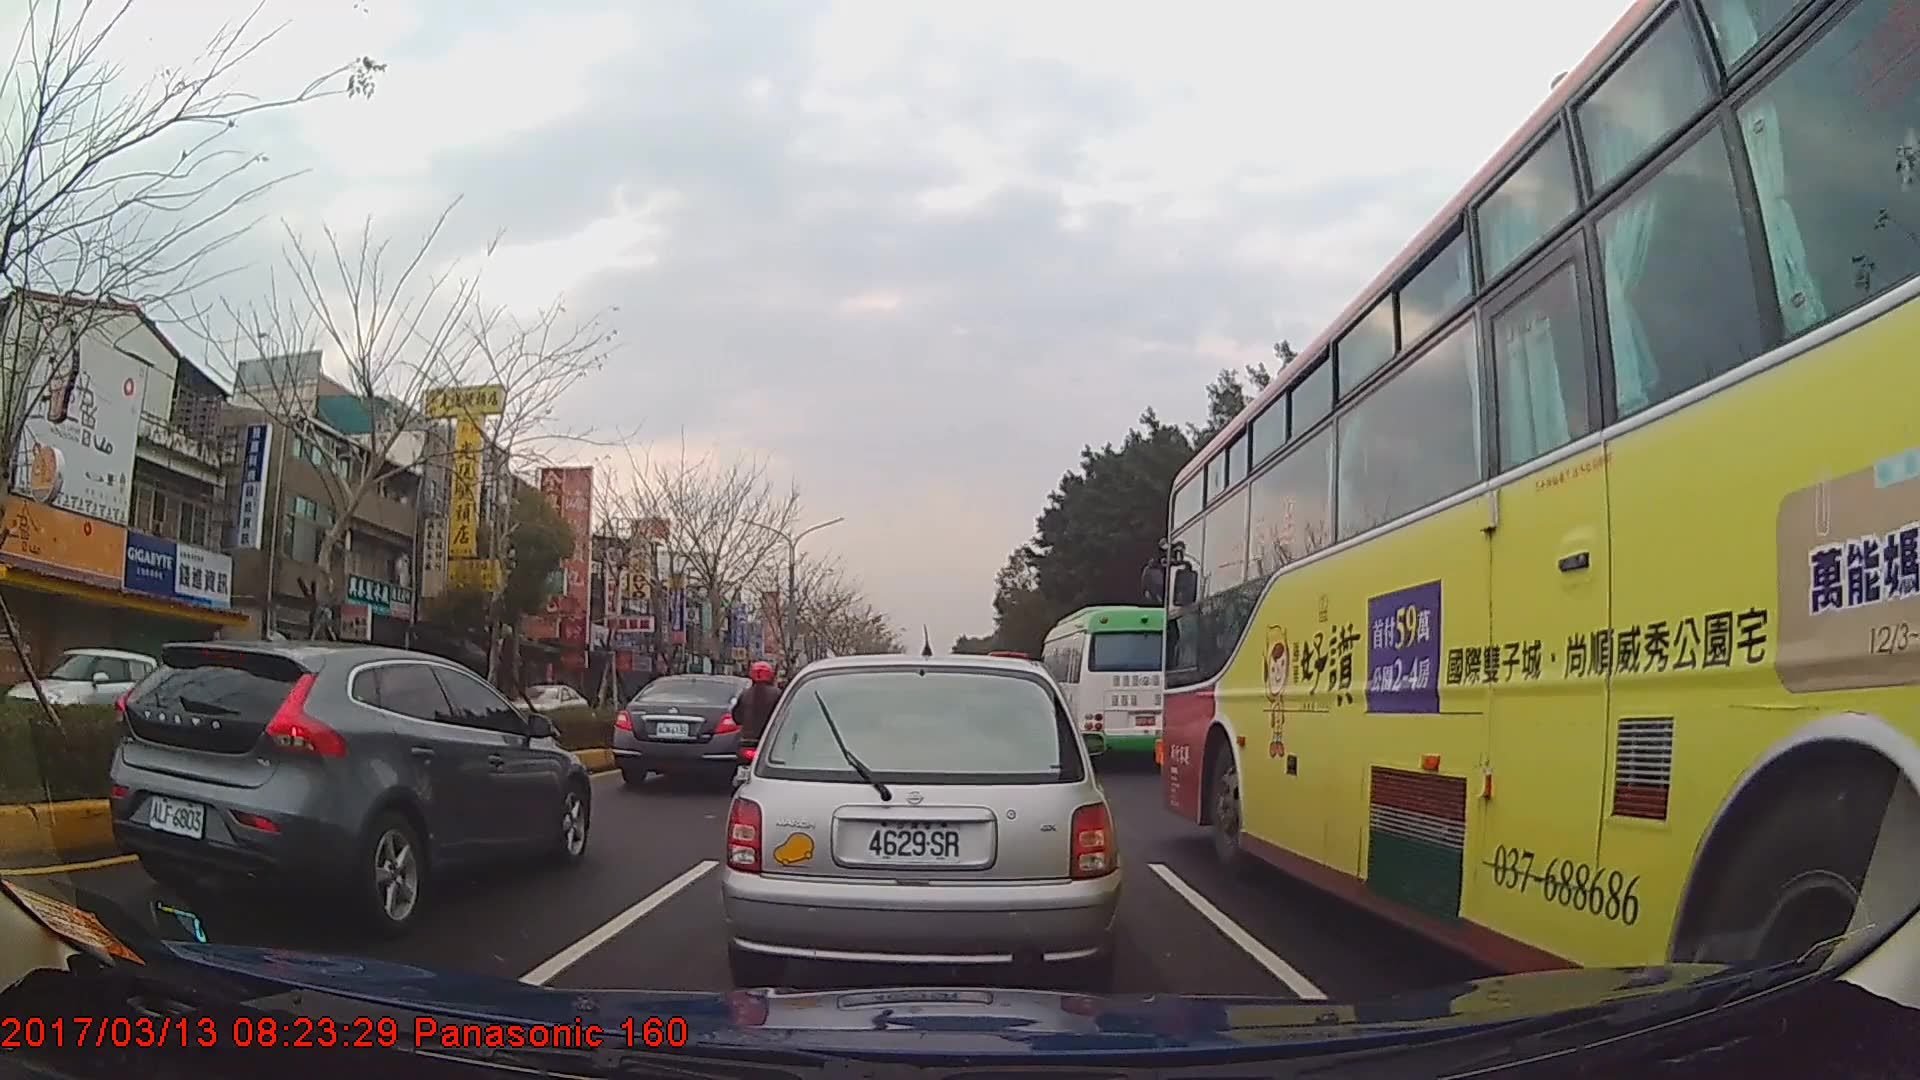rider: (732, 661, 796, 809)
vehicle: (1162, 0, 1920, 1027), (104, 636, 588, 928), (723, 649, 1119, 988), (1040, 605, 1188, 769), (612, 671, 776, 791), (4, 645, 167, 748), (506, 681, 588, 727)
